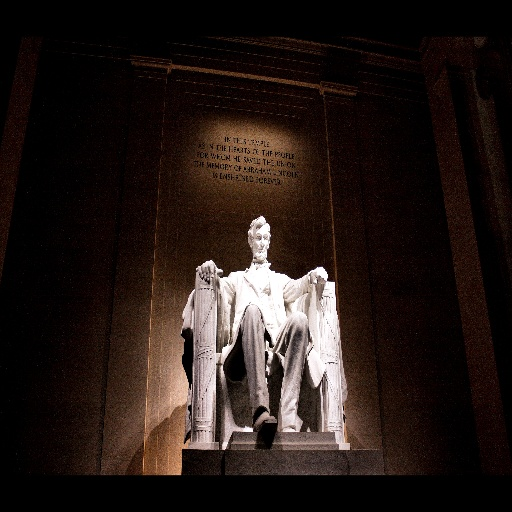hand: (197, 260, 222, 281), (309, 265, 328, 287)
